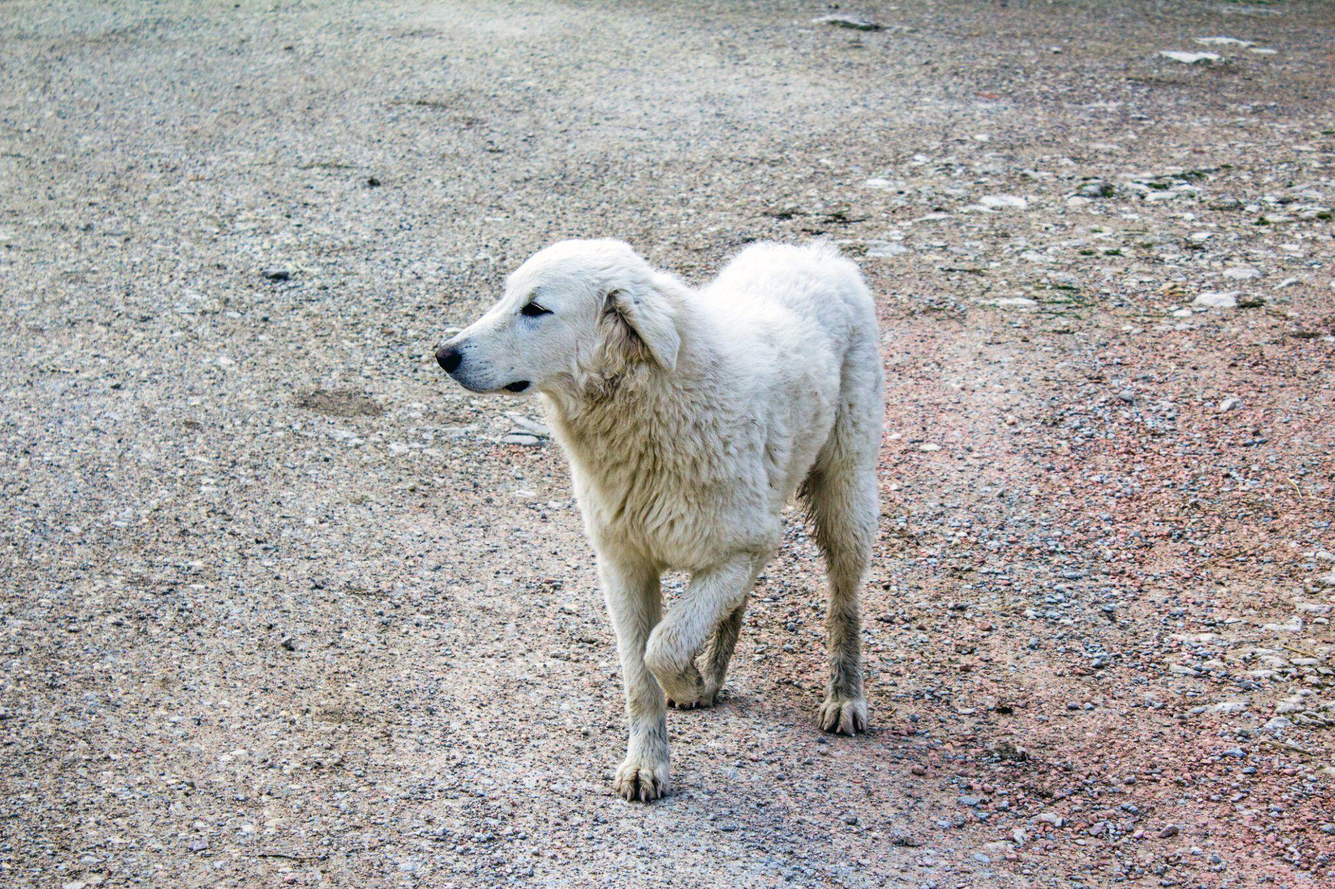fracture: (583, 553, 785, 791)
